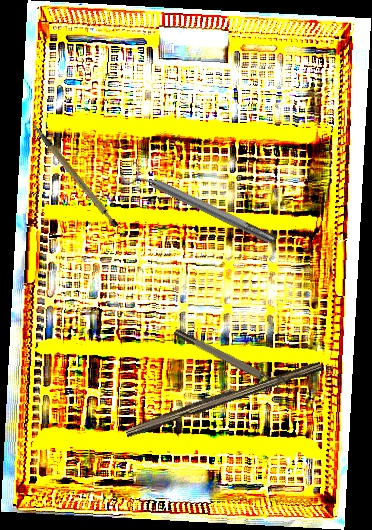Fixation Ring: (117, 156, 280, 254), (172, 322, 288, 394)
Scalpel Handle: (123, 355, 323, 441), (31, 111, 120, 238)
